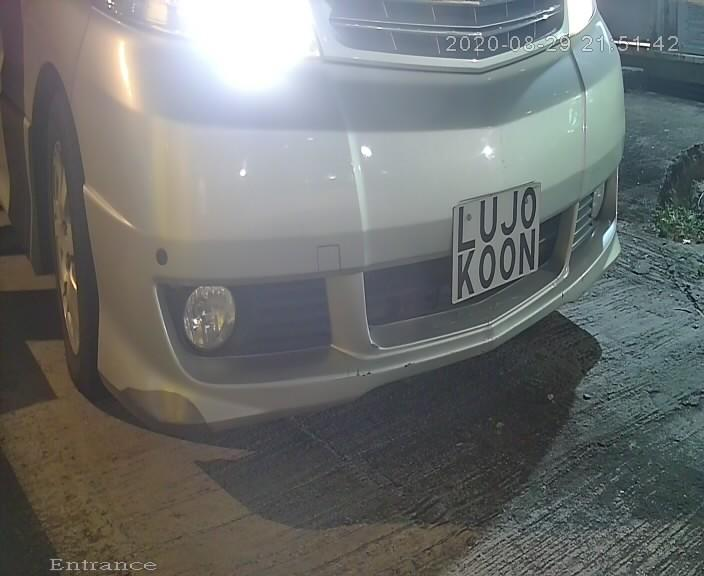License Plate: (447, 157, 544, 322)
